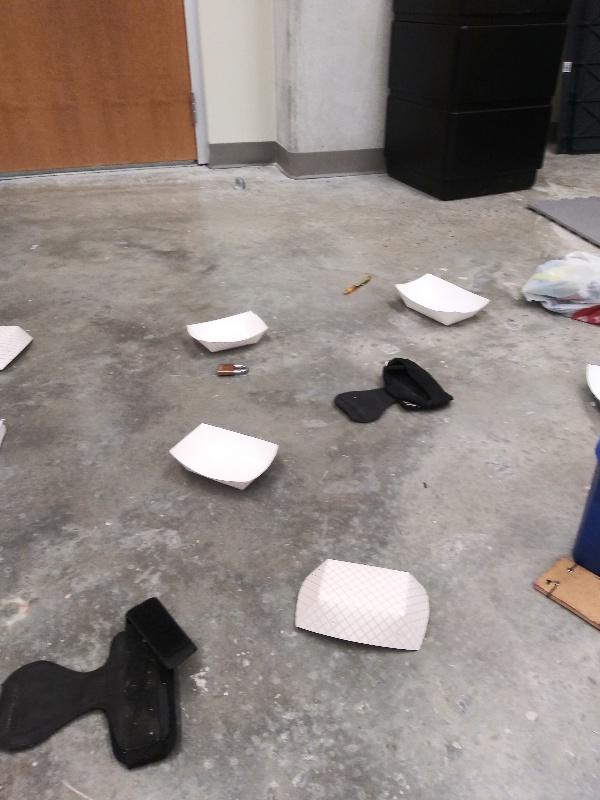plate: (288, 555, 434, 655), (167, 420, 286, 493), (390, 270, 497, 330), (180, 306, 274, 357), (1, 316, 36, 380), (581, 356, 600, 416)
